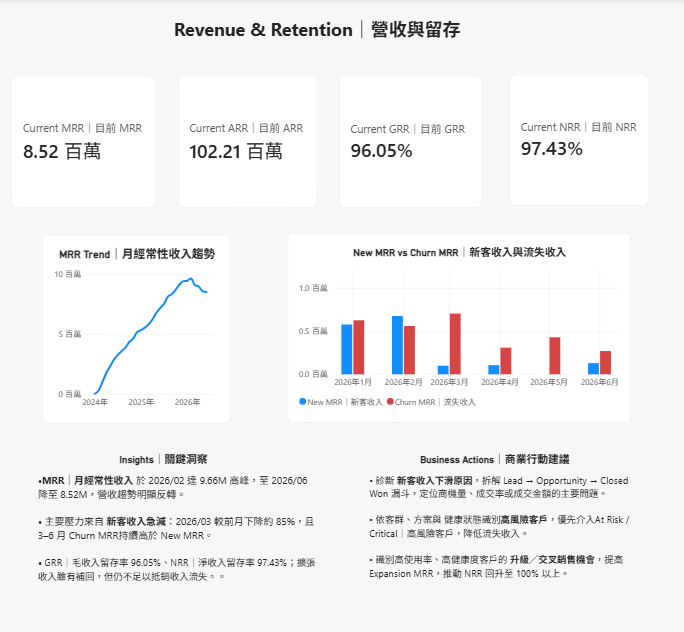

The dashboard page shown, as its layout file describes it:
{"tool":"powerbi","page":{"name":"Revenue & Retention｜營收與留存","canvas":[1920,1080],"ordinal":2},"visuals":[{"type":"cardVisual","fields":{"Data":["saas_revops monthly_revenue.Current MRR"]},"box":[23.3,116.7,214.4,196.7],"z":0},{"type":"cardVisual","fields":{"Data":["saas_revops monthly_revenue.Current ARR"]},"box":[272.2,116.7,207.8,196.7],"z":1000},{"type":"lineChart","title":"MRR Trend｜月經常性收入趨勢","fields":{"Category":["saas_revops monthly_revenue.revenue_month.變化.日期階層.年","saas_revops monthly_revenue.revenue_month.變化.日期階層.月"],"Y":["Sum(saas_revops monthly_revenue.ending_mrr)"]},"box":[70,352.5,280,280],"z":2000},{"type":"cardVisual","fields":{"Data":["saas_revops monthly_revenue.Current NRR"]},"box":[764.4,115.6,207.8,196.7],"z":3000},{"type":"cardVisual","fields":{"Data":["saas_revops monthly_revenue.Current GRR"]},"box":[511.1,117.8,213.3,196.7],"z":4000},{"type":"clusteredColumnChart","title":"New MRR vs Churn MRR｜新客收入與流失收入","fields":{"Category":["saas_revops monthly_revenue.revenue_month"],"Y":["Sum(saas_revops monthly_revenue.new_mrr)","Sum(saas_revops monthly_revenue.churn_mrr)"]},"box":[434,350,510,281.2],"z":5000},{"type":"textbox","title":"Insights｜關鍵洞察","box":[22.5,675,457.5,207.5],"z":6000},{"type":"textbox","title":"Business Actions｜商業行動建議","box":[515,675,457.5,207.5],"z":7000},{"type":"textbox","box":[157.7,27.2,641.8,87],"z":8000}]}

Visuals, with their boxes on the page's 1920x1080 design canvas (x1, y1, x2, y2). These are canvas units, not pixel positions in the 684x632 screenshot, which may show the page scaled, cropped or inside an application window:
cardVisual - saas_revops monthly_revenue.Current MRR: l=23, t=117, r=238, b=313
cardVisual - saas_revops monthly_revenue.Current ARR: l=272, t=117, r=480, b=313
"MRR Trend｜月經常性收入趨勢" lineChart: l=70, t=352, r=350, b=632
cardVisual - saas_revops monthly_revenue.Current NRR: l=764, t=116, r=972, b=312
cardVisual - saas_revops monthly_revenue.Current GRR: l=511, t=118, r=724, b=314
"New MRR vs Churn MRR｜新客收入與流失收入" clusteredColumnChart: l=434, t=350, r=944, b=631
"Insights｜關鍵洞察" textbox: l=22, t=675, r=480, b=882
"Business Actions｜商業行動建議" textbox: l=515, t=675, r=972, b=882
textbox: l=158, t=27, r=800, b=114
